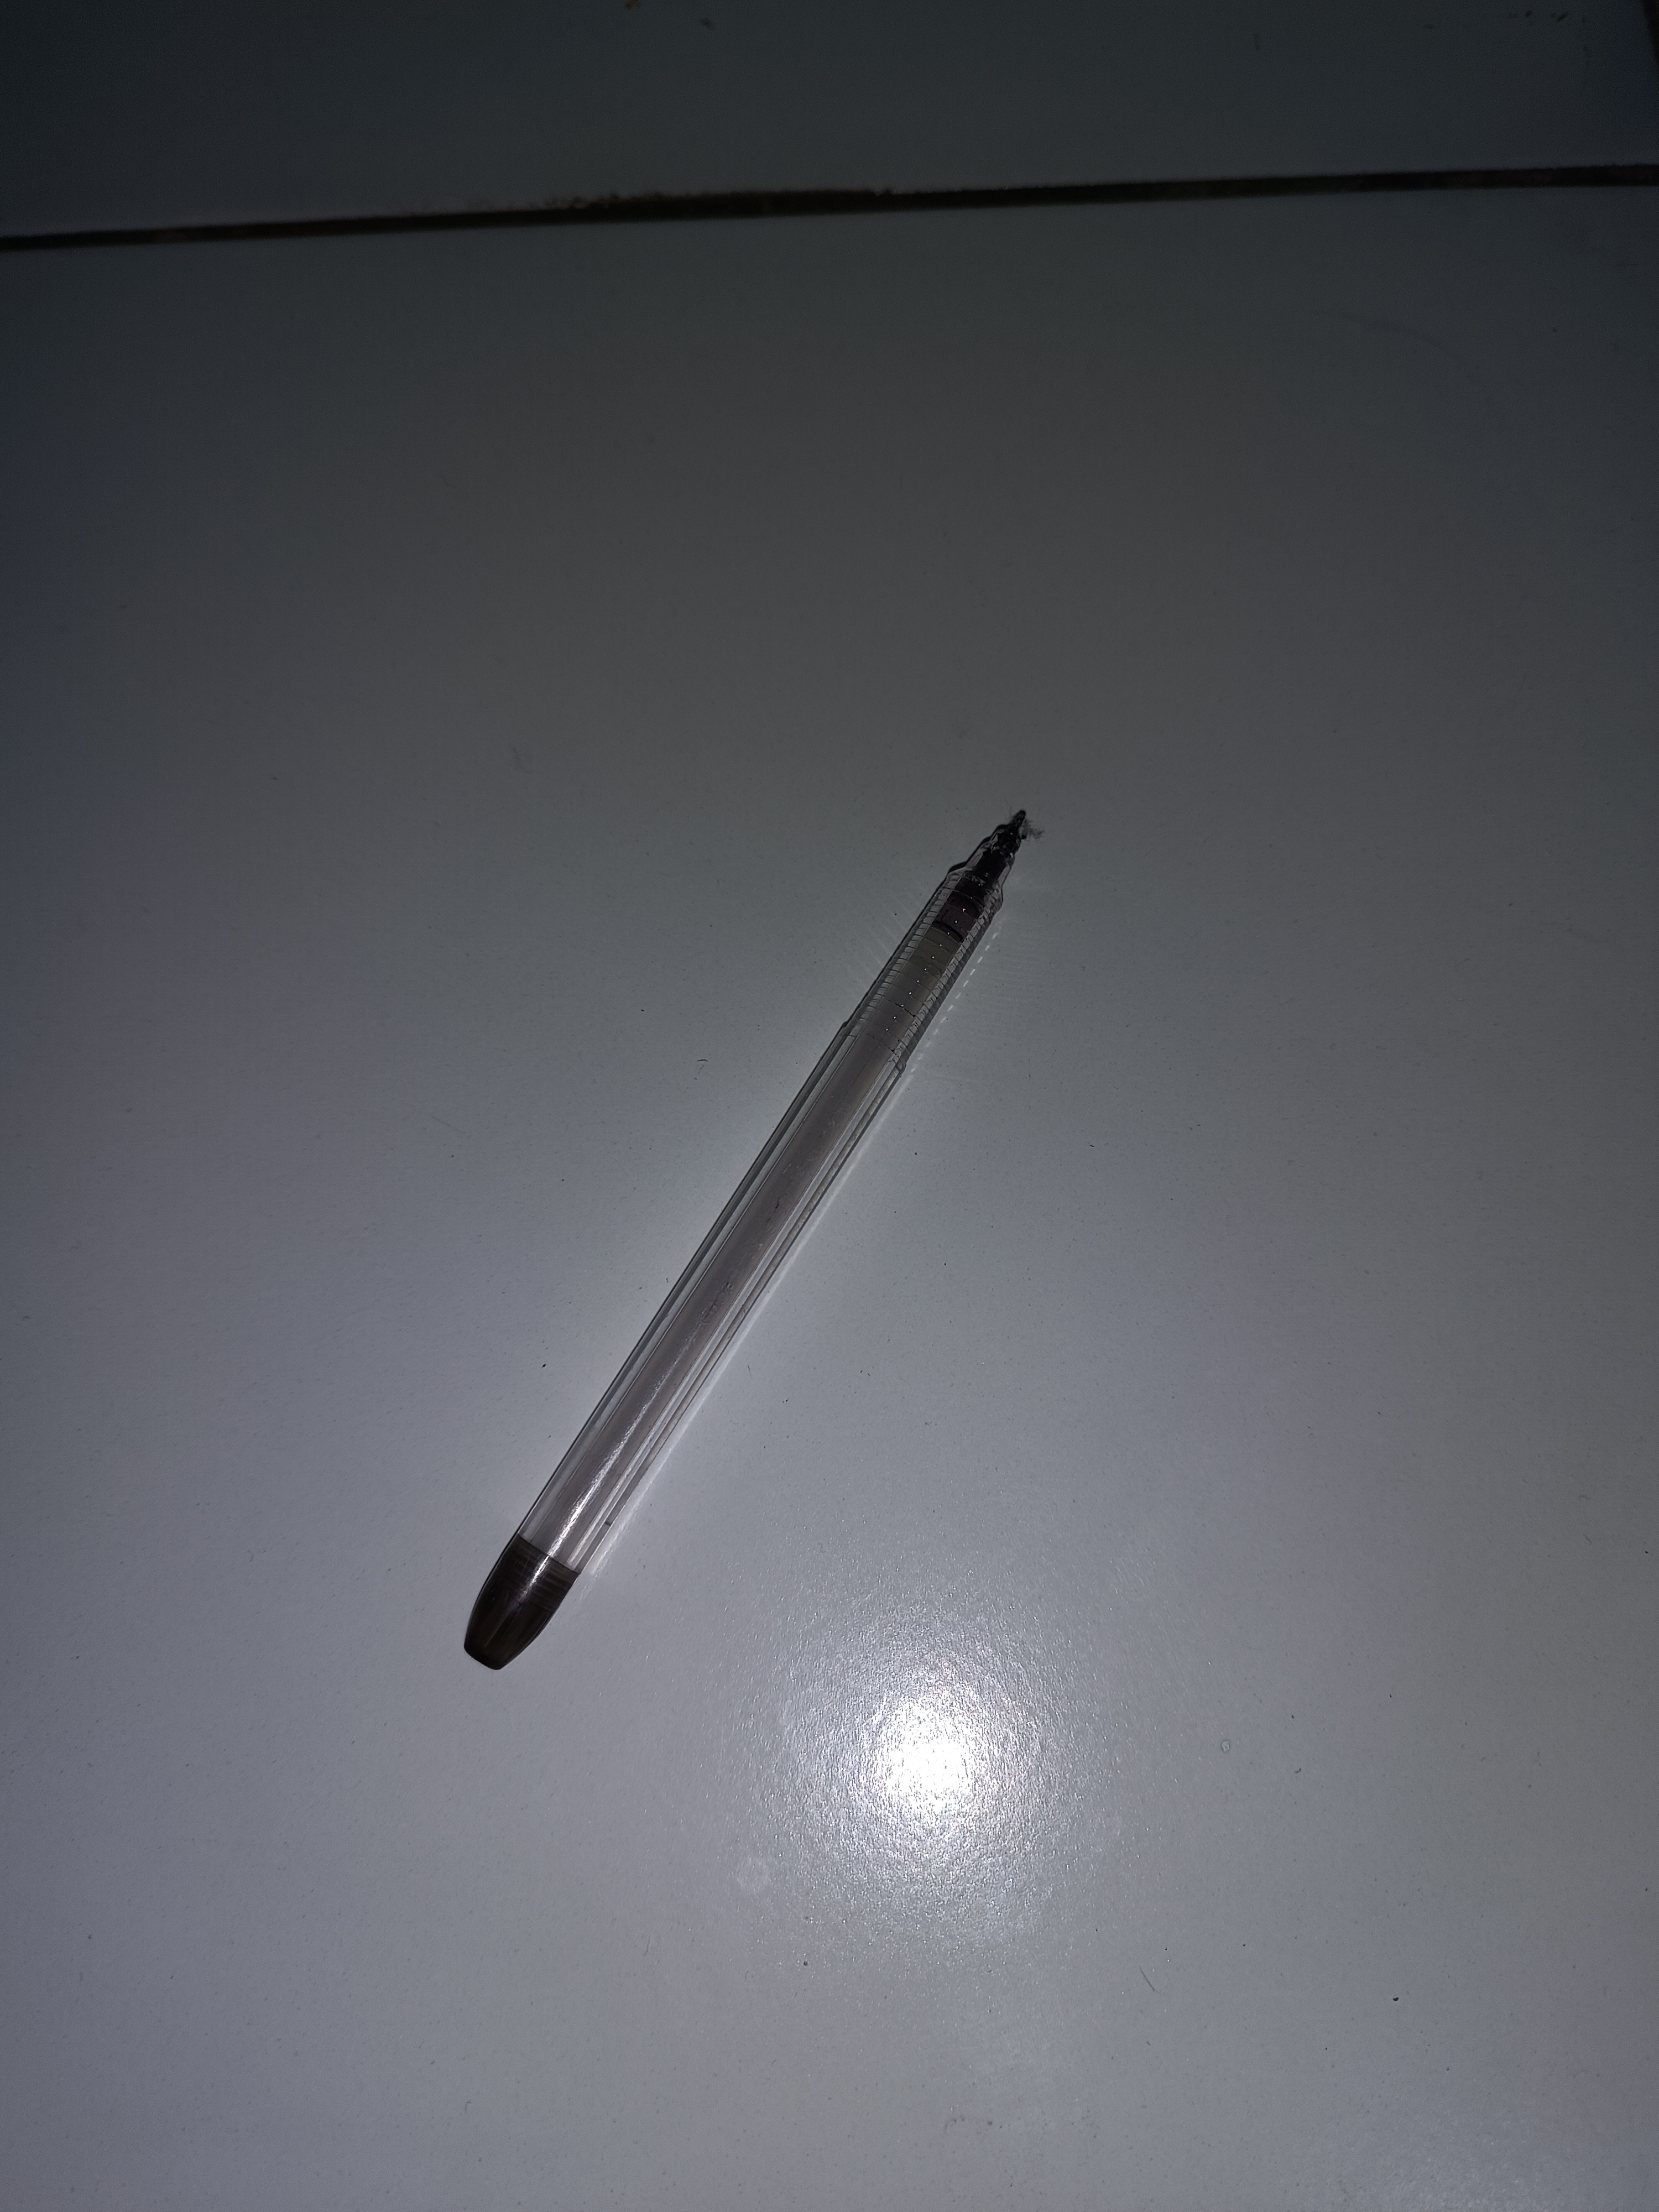Pen: (268, 704, 1253, 1759)
